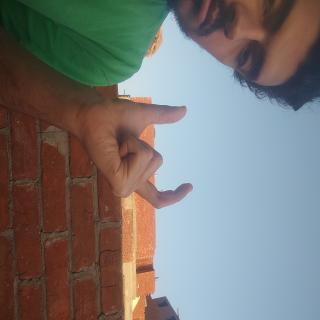NOON: (59, 163, 173, 320)
